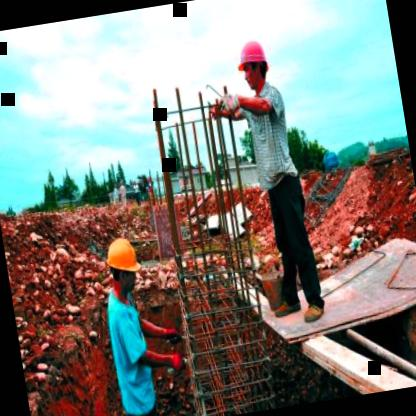helmet: (230, 31, 276, 96), (101, 232, 144, 298)
